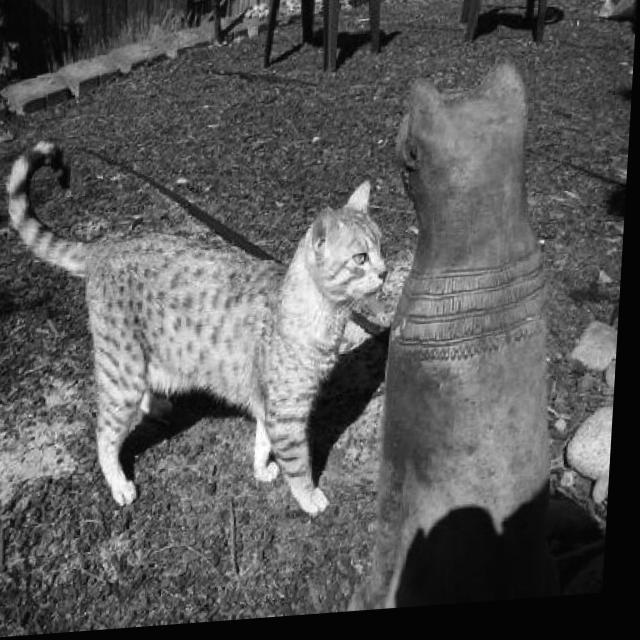Cat: (0, 115, 395, 543)
